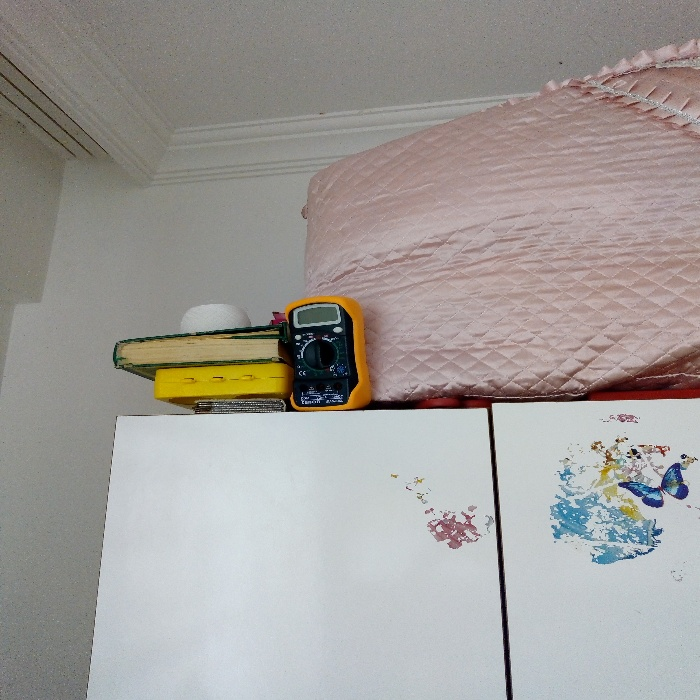multimetre: (276, 286, 375, 415)
